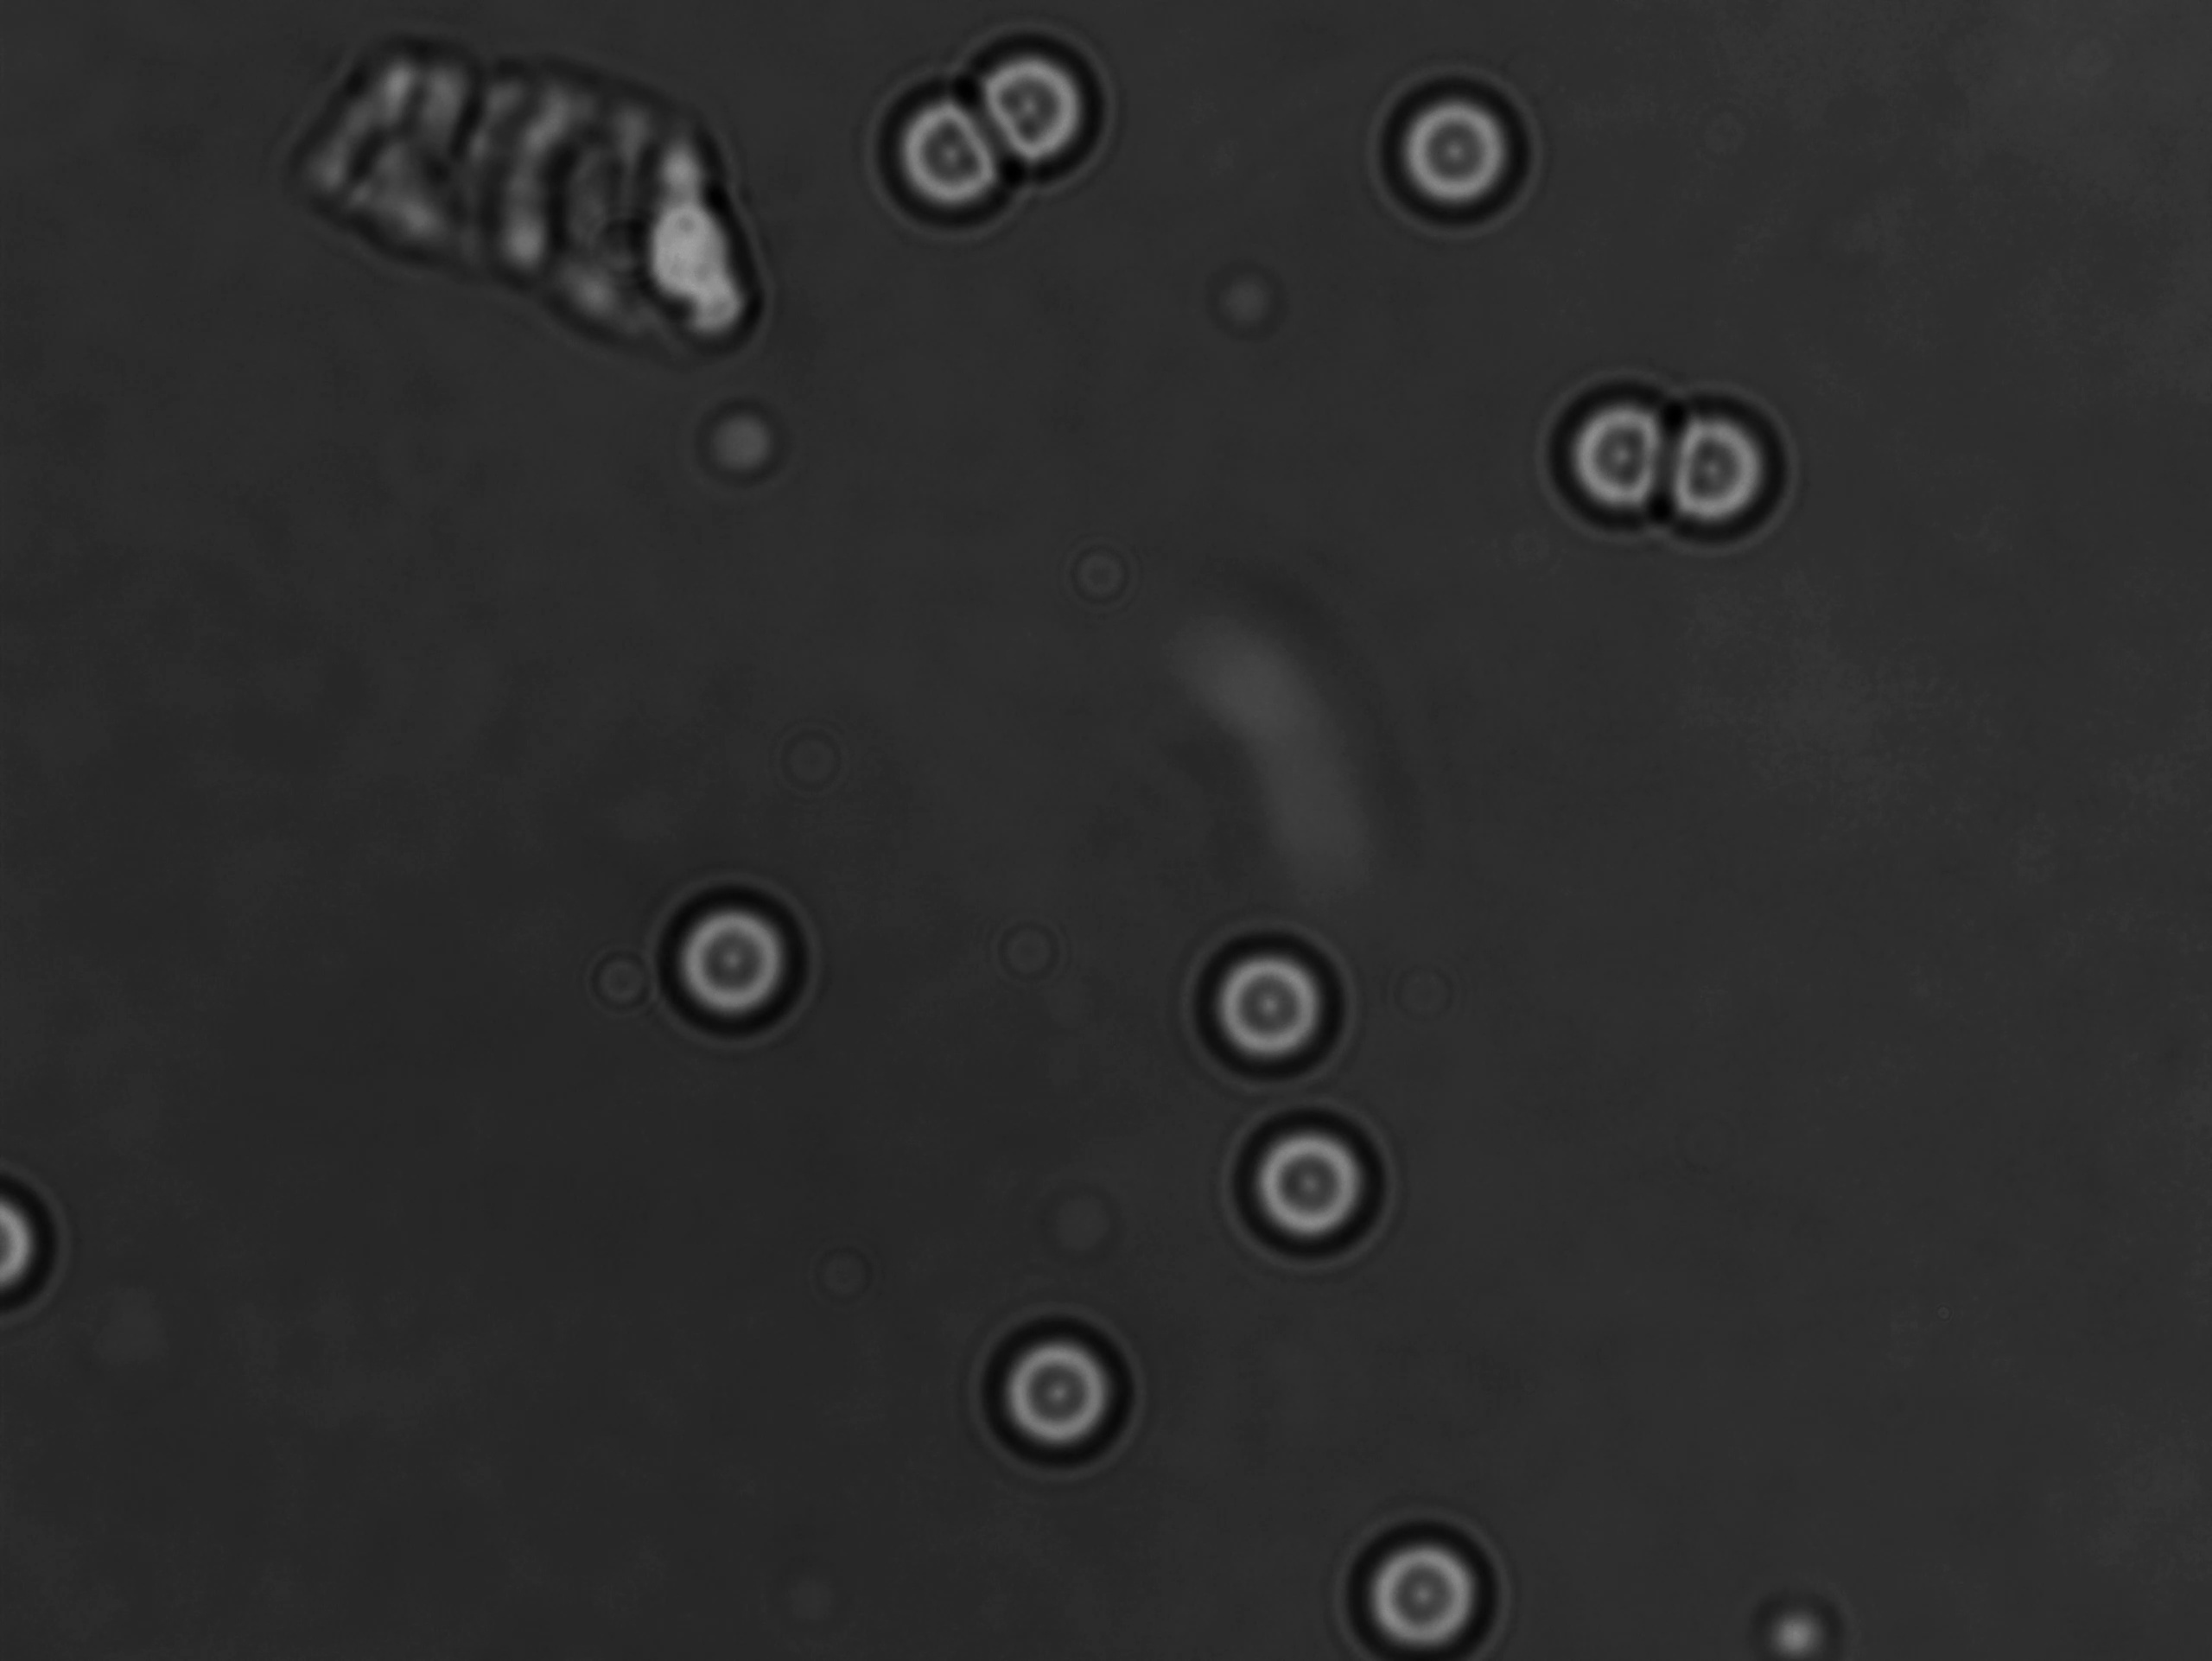depth:40: (642, 872, 846, 1052), (1369, 58, 1547, 234), (972, 1298, 1155, 1467), (865, 73, 1057, 234), (1657, 373, 1818, 558), (1535, 372, 1703, 544), (1218, 1090, 1380, 1265), (956, 31, 1129, 192), (1335, 1520, 1509, 1661), (1185, 925, 1340, 1073)
